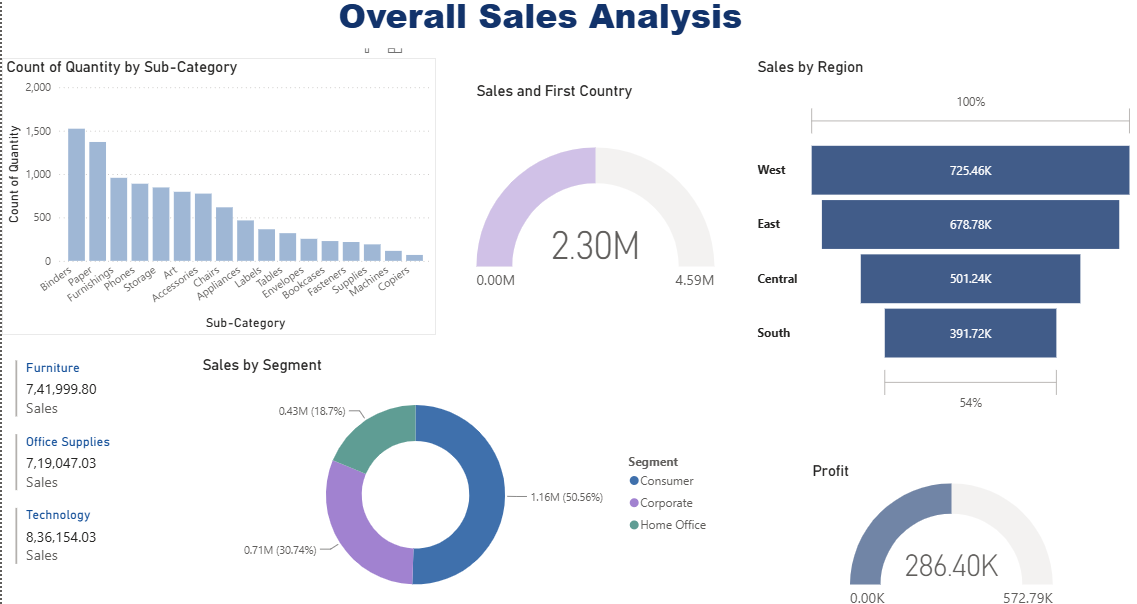

What the dashboard file says about the page in this screenshot:
{"tool":"powerbi","page":{"name":"Sales Analysis","canvas":[1280,720],"ordinal":0},"visuals":[{"type":"funnel","fields":{"Category":["Orders.Region"],"Y":["Sum(Orders.Sales)"]},"box":[845.6,91.2,433.8,416.2],"z":0},{"type":"clusteredColumnChart","fields":{"Category":["Orders.Sub-Category"],"Y":["CountNonNull(Orders.Quantity)"]},"box":[0,91.2,488.5,311.4],"z":1000},{"type":"multiRowCard","fields":{"Values":["Orders.Category","Sum(Orders.Sales)"]},"box":[9.6,426.4,211.3,293.6],"z":2000},{"type":"gauge","fields":{"Y":["Sum(Orders.Sales)"]},"box":[529.1,117.9,277.9,293.3],"z":3000},{"type":"donutChart","fields":{"Category":["Orders.Segment"],"Y":["Sum(Orders.Sales)"]},"box":[220.4,426.7,586.7,293.3],"z":4000},{"type":"textbox","box":[99.6,11.2,999.3,68.8],"z":5000},{"type":"gauge","fields":{"Y":["Sum(Orders.Profit)"]},"box":[907.8,546.2,322.9,174],"z":6000}]}

Visuals, with their boxes on the page's 1280x720 design canvas (x1, y1, x2, y2). These are canvas units, not pixel positions in the 1137x604 screenshot, which may show the page scaled, cropped or inside an application window:
funnel - Orders.Region x Sum(Orders.Sales): 846:91:1279:507
clusteredColumnChart - Orders.Sub-Category x CountNonNull(Orders.Quantity): 0:91:488:403
multiRowCard - Orders.Category x Sum(Orders.Sales): 10:426:221:720
gauge - Sum(Orders.Sales): 529:118:807:411
donutChart - Orders.Segment x Sum(Orders.Sales): 220:427:807:720
textbox: 100:11:1099:80
gauge - Sum(Orders.Profit): 908:546:1231:720
